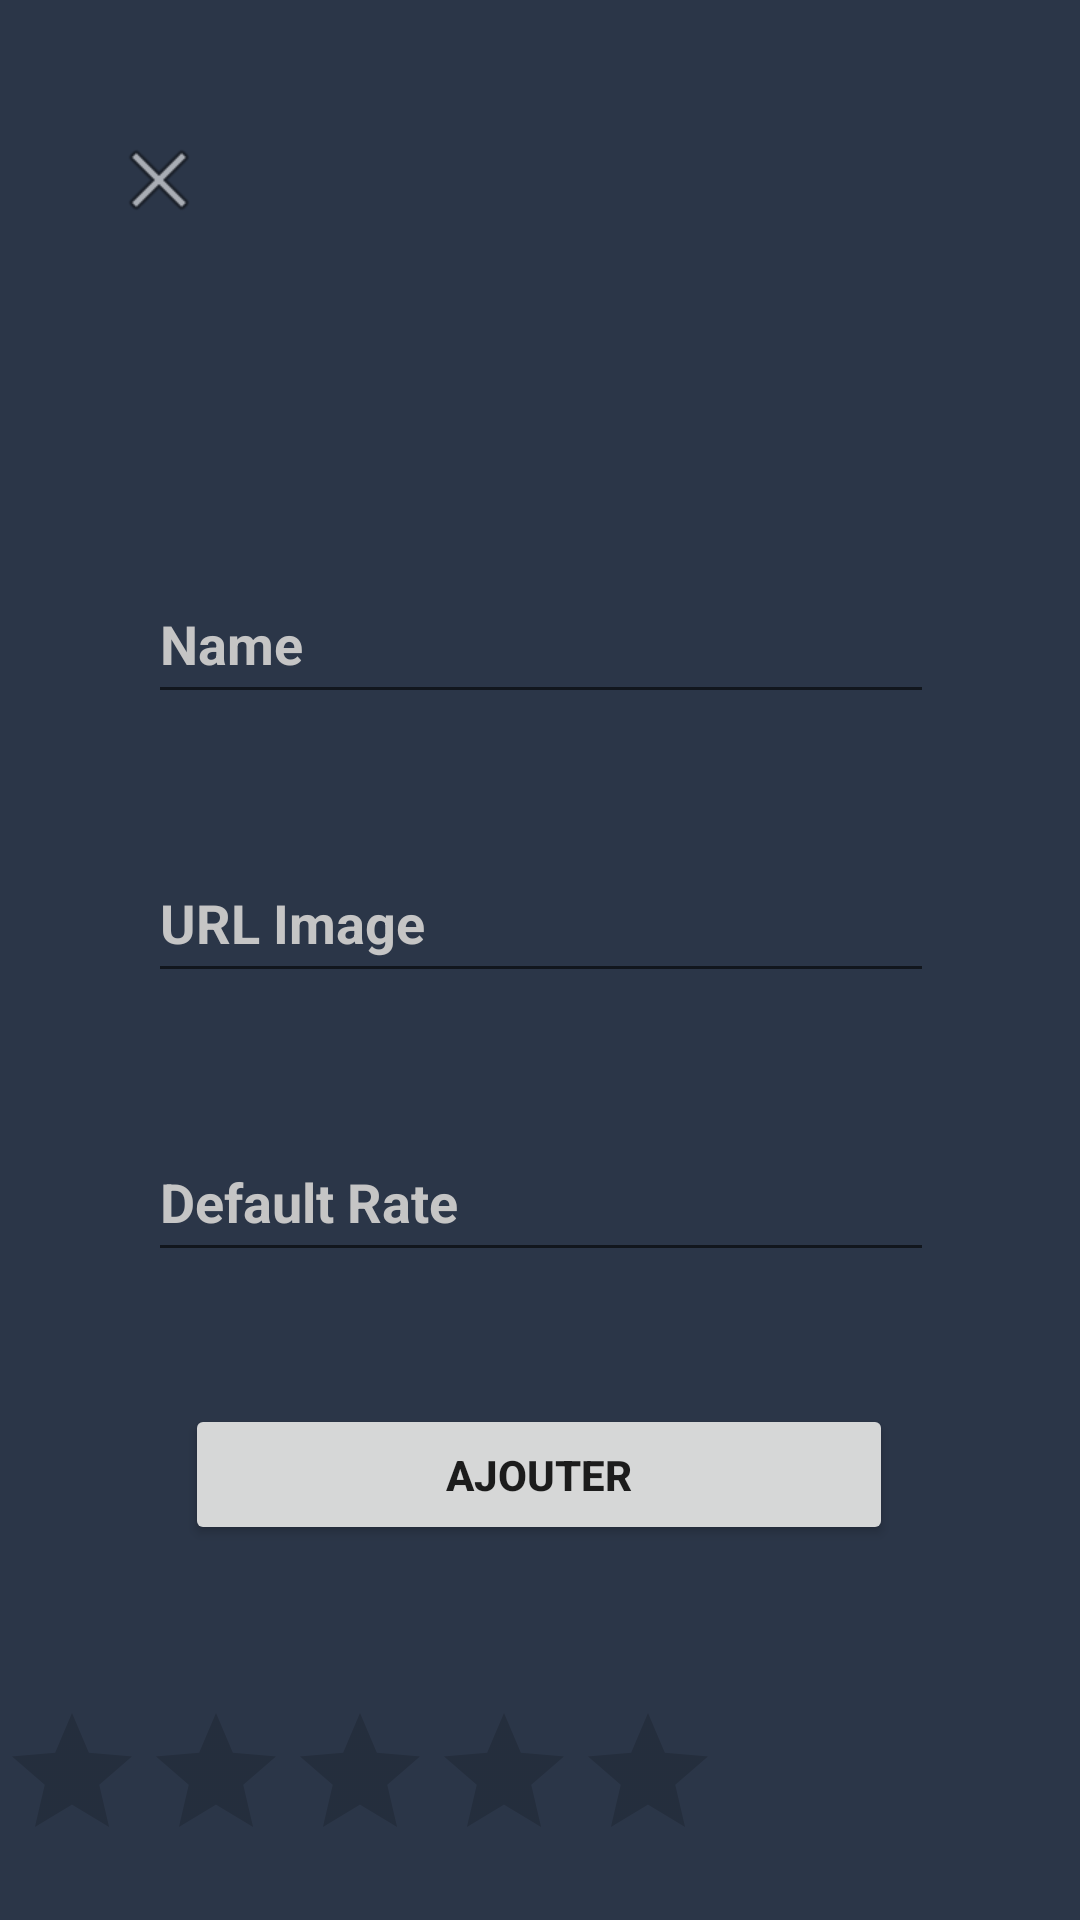

Point at icon controls on the screen. Image size 1080px×1920px, points as [x,y].
close clear cancel: [159,180]
